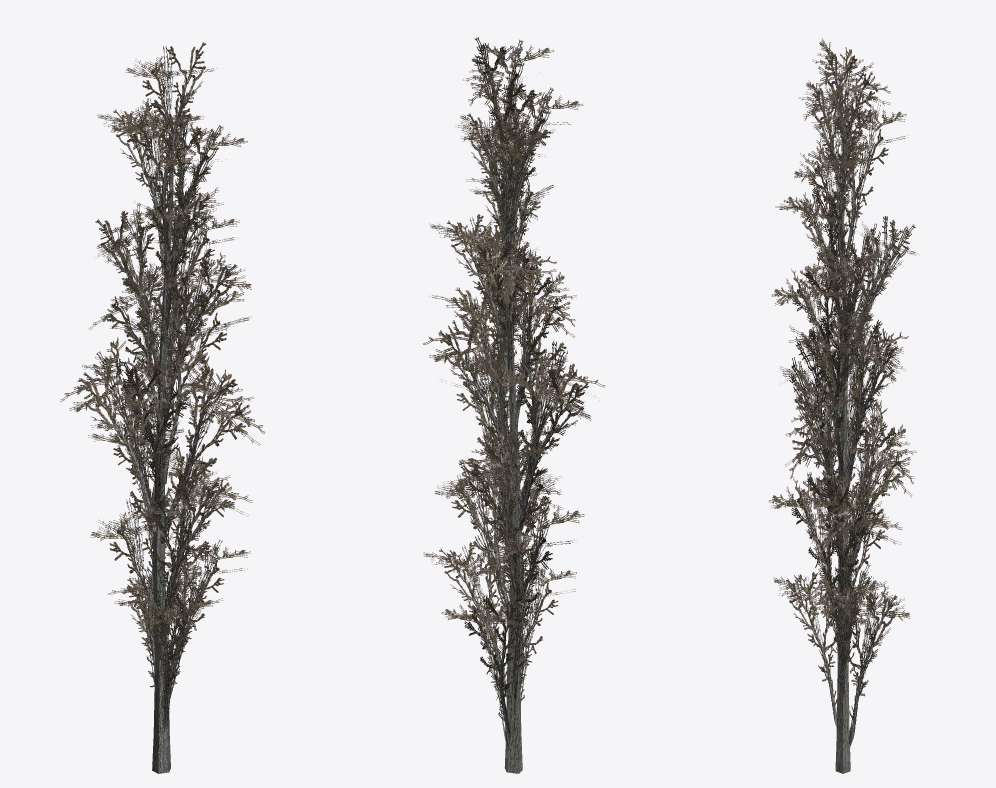
Rendered from flora_tree_poplar_lombardy_dead.glb.
3 renders of one model, left to right at view 1: azimuth 30°, elevation 25°; view 2: azimuth 150°, elevation 25°; view 3: azimuth 270°, elevation 25°, orthographic.
Visible parts, largest first — view 1: flora_tree_poplar_lombardy_dead_part0; view 2: flora_tree_poplar_lombardy_dead_part0; view 3: flora_tree_poplar_lombardy_dead_part0.
Part boxes in pixels (<box>): flora_tree_poplar_lombardy_dead_part0: <box>60,42,264,773</box>; flora_tree_poplar_lombardy_dead_part0: <box>422,37,605,773</box>; flora_tree_poplar_lombardy_dead_part0: <box>769,38,917,773</box>.
Size of the model in its own units: 9.06 by 21.1 by 7.04.
Materials: 1 (1 with a texture image).
